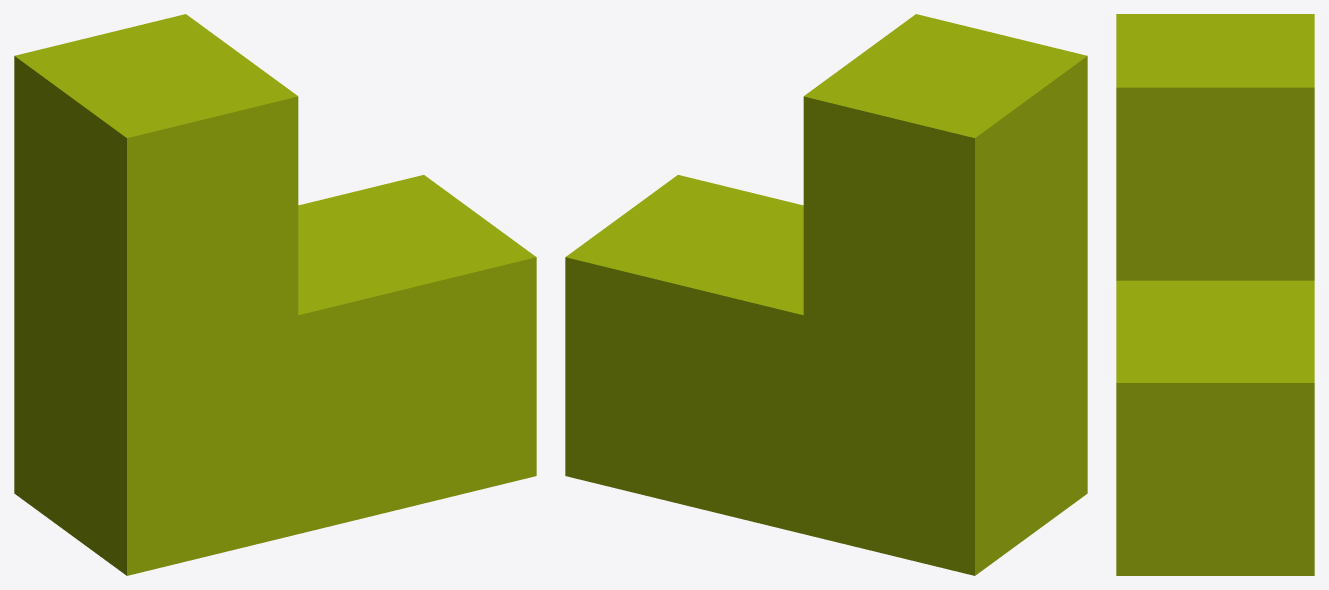
The model's file is LShapeColor.fbx.
The picture shows the model from 3 angles, left to right: view 1: azimuth 30°, elevation 25°; view 2: azimuth 150°, elevation 25°; view 3: azimuth 270°, elevation 25°; orthographic projection. The views are drawn at different scales.
Visible parts, largest first — view 1: LShape; view 2: LShape; view 3: LShape.
Part boxes in pixels (x1,y1,x2,y2): LShape: [14, 14, 536, 575]; LShape: [565, 14, 1087, 575]; LShape: [1116, 14, 1314, 575].
Size of the model in its own units: 115 by 117 by 54.7.
